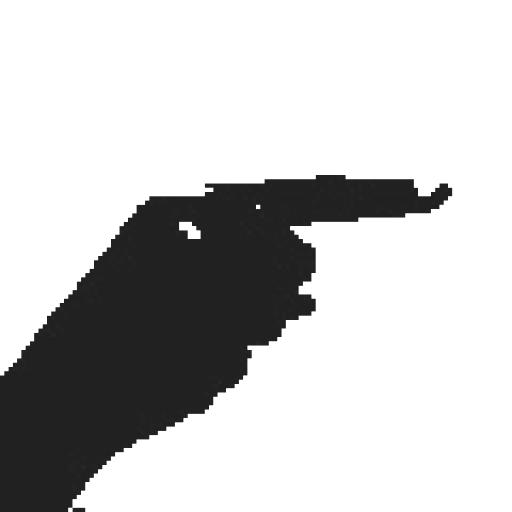index_right: (0, 173, 454, 388)
